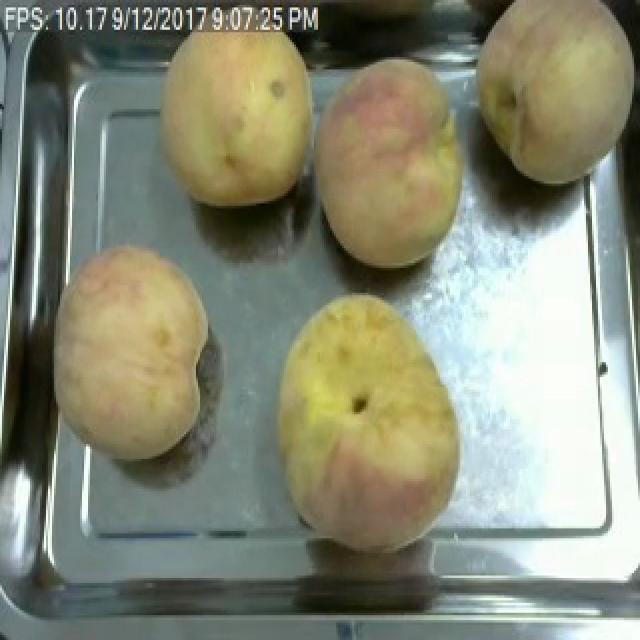Fruit: (264, 285, 474, 561), (32, 228, 222, 469), (300, 47, 480, 280), (146, 8, 330, 218), (460, 0, 640, 198)
